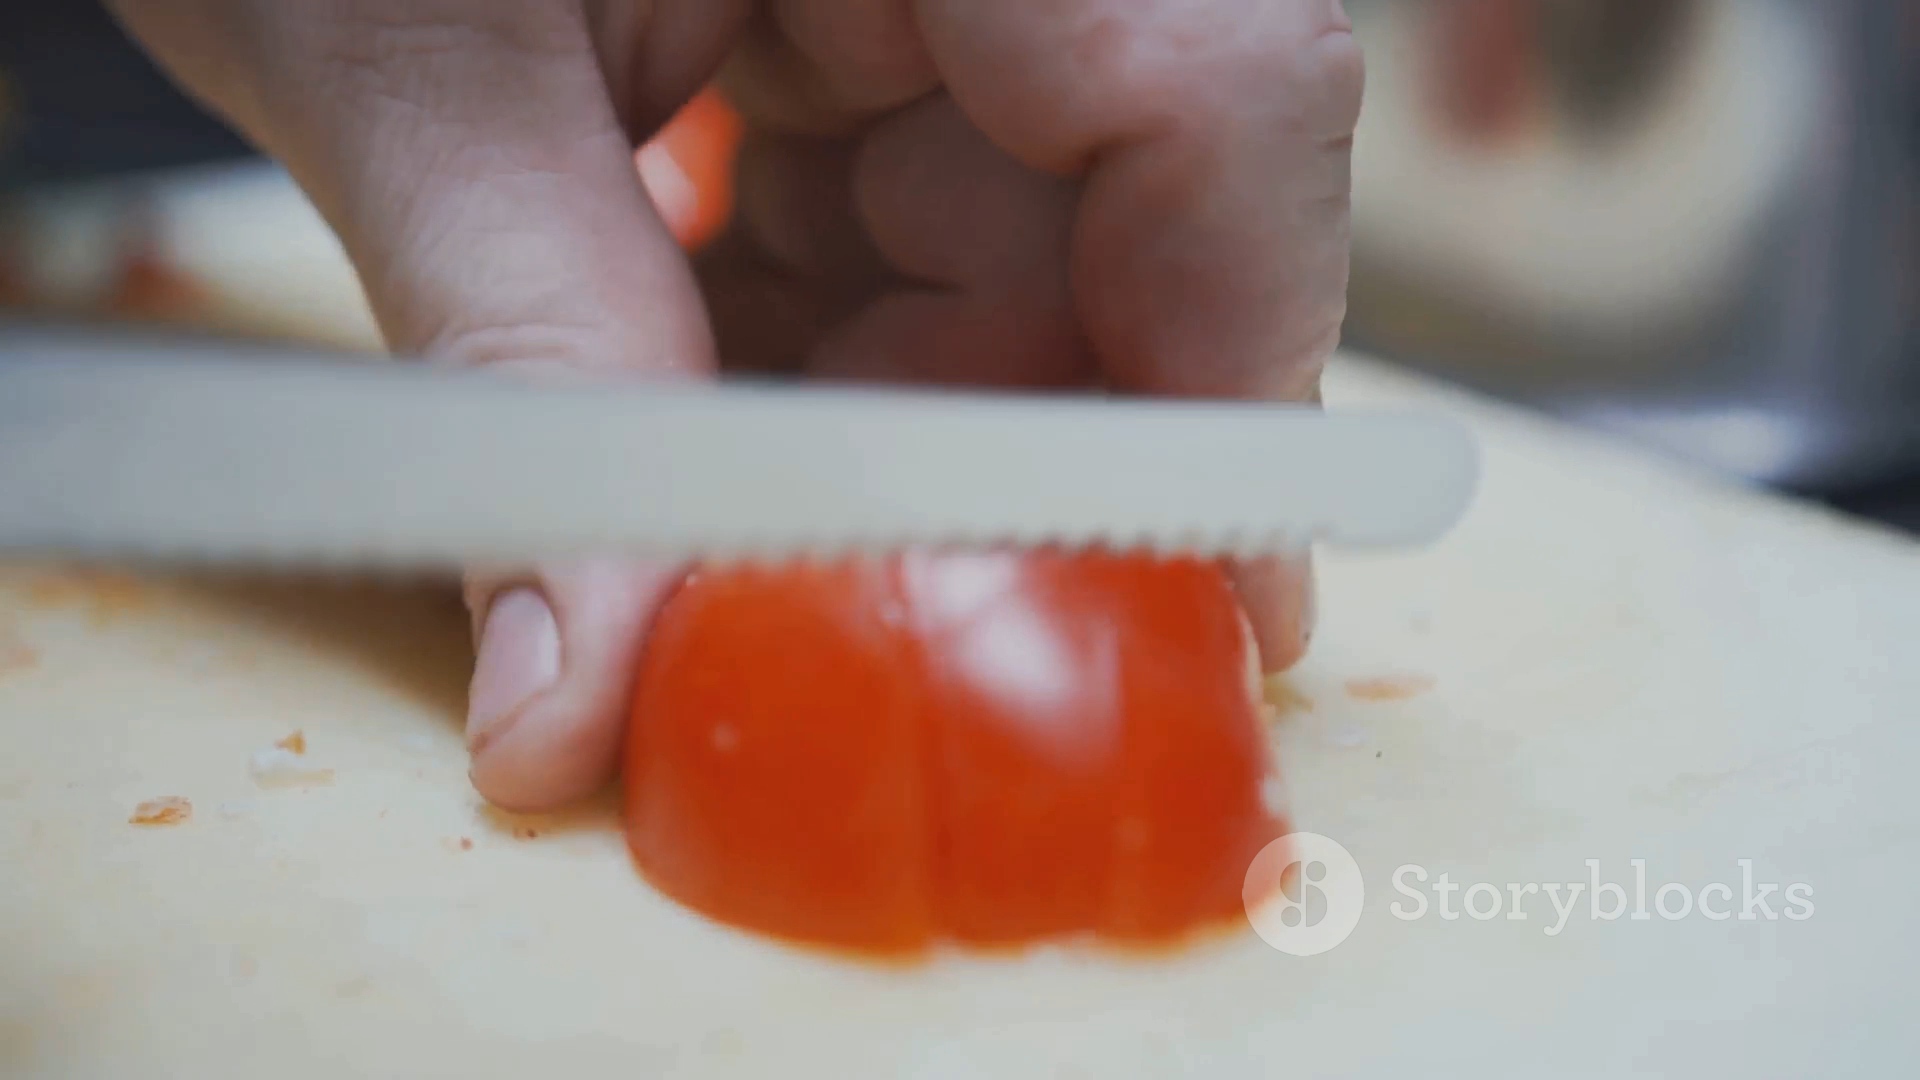cortante: (0, 323, 1487, 572)
